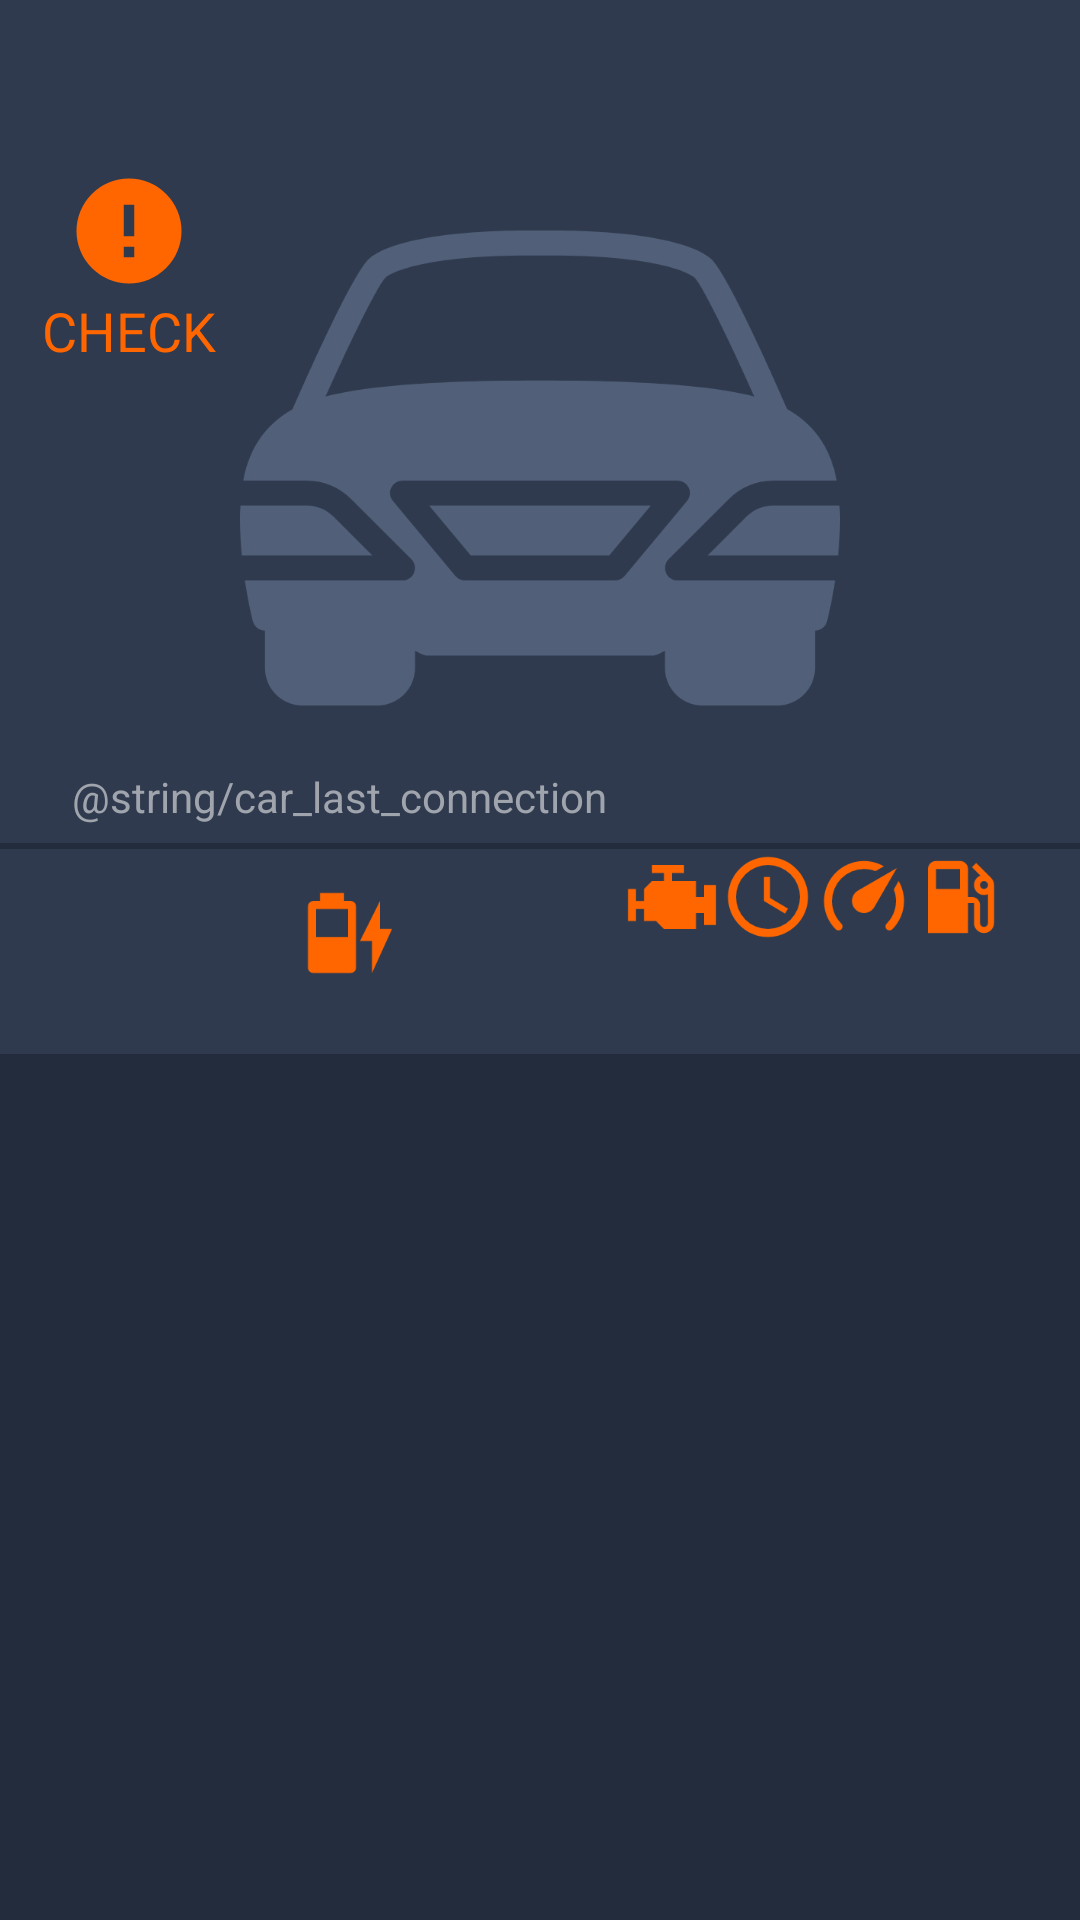

Icons on this 1080px×1920px Android screen, each with its box as region(x1, y1, x2, y2):
accumulator: region(307, 892, 392, 974)
alert: region(76, 178, 182, 284)
engine: region(628, 865, 716, 929)
fuel: region(928, 860, 995, 934)
speedometer: region(823, 860, 905, 931)
time: region(727, 856, 809, 938)
